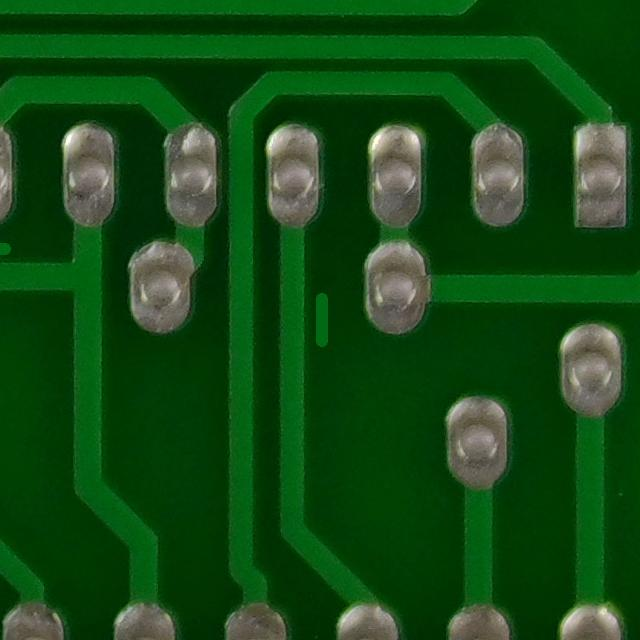spurious_copper: (302, 284, 338, 356)
